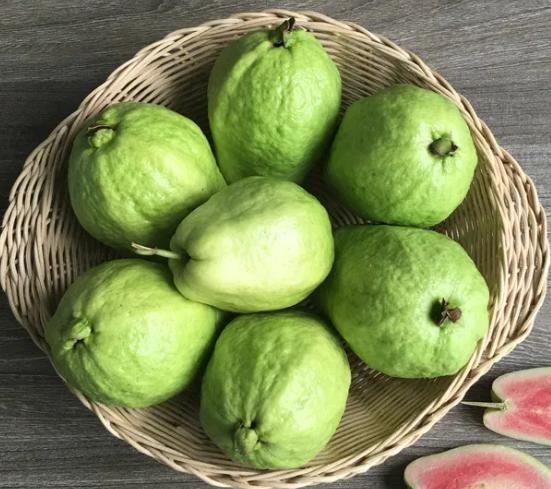guava_A: (45, 256, 224, 408), (320, 224, 489, 380), (68, 102, 230, 255), (197, 314, 352, 471), (169, 176, 335, 315), (323, 84, 477, 228), (207, 30, 341, 189)
